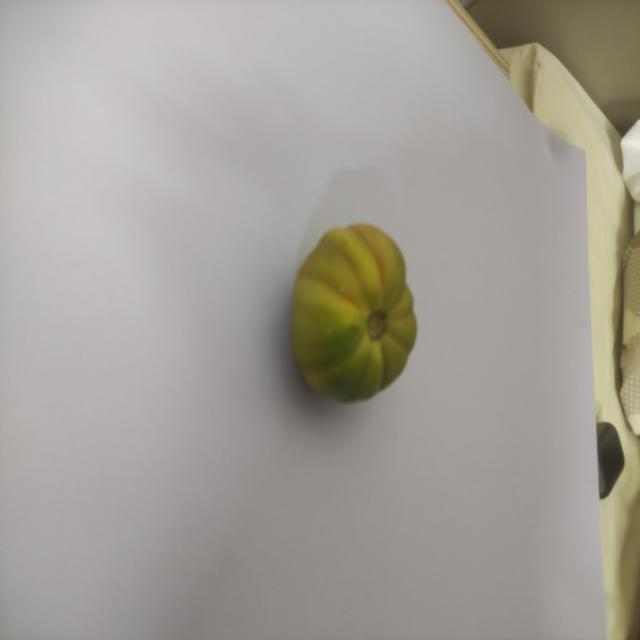unripe tomato: (278, 214, 425, 416)
